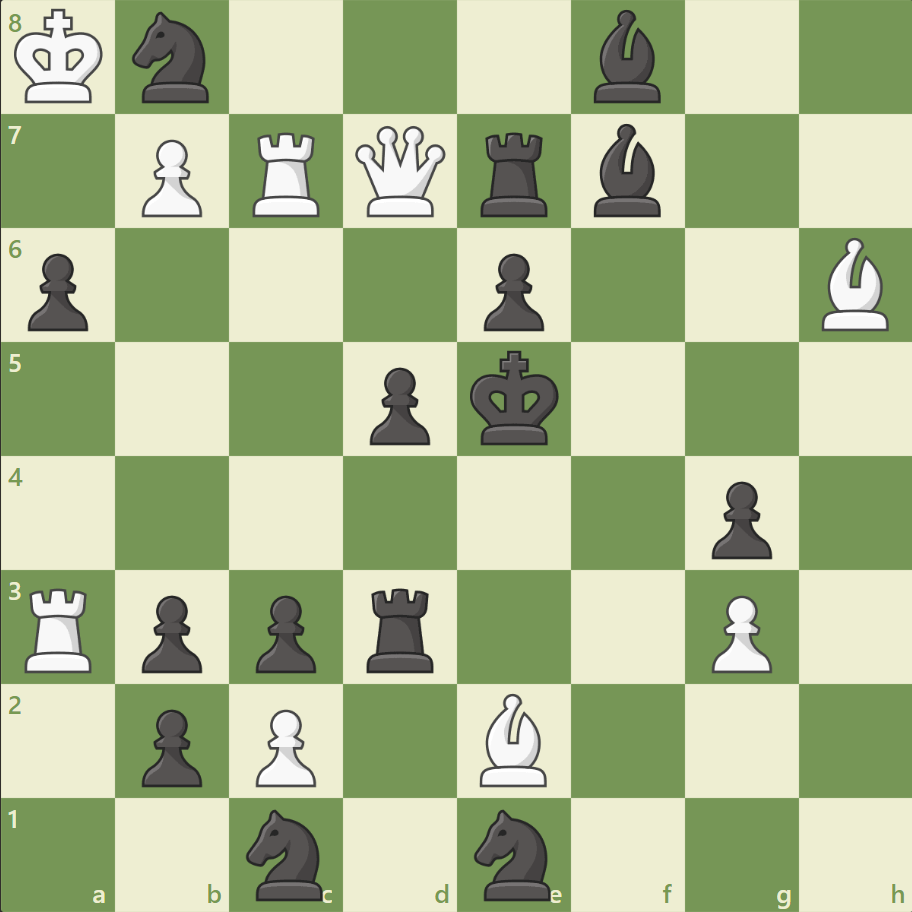B: (812, 233, 896, 336), (471, 687, 555, 790)
K: (11, 4, 111, 112)
P: (133, 132, 208, 223), (701, 586, 776, 677), (247, 700, 322, 791)
Q: (351, 122, 450, 222)
R: (246, 125, 329, 222), (19, 579, 102, 676)
b: (585, 6, 669, 109), (585, 120, 669, 222)
k: (465, 344, 565, 452)
n: (124, 7, 222, 110), (238, 802, 335, 904), (465, 802, 562, 904)
p: (20, 246, 95, 337), (474, 246, 549, 337), (701, 473, 776, 564), (133, 586, 208, 677), (247, 586, 322, 677), (133, 700, 208, 791), (361, 359, 435, 450)
r: (473, 125, 556, 222), (360, 579, 442, 676)
